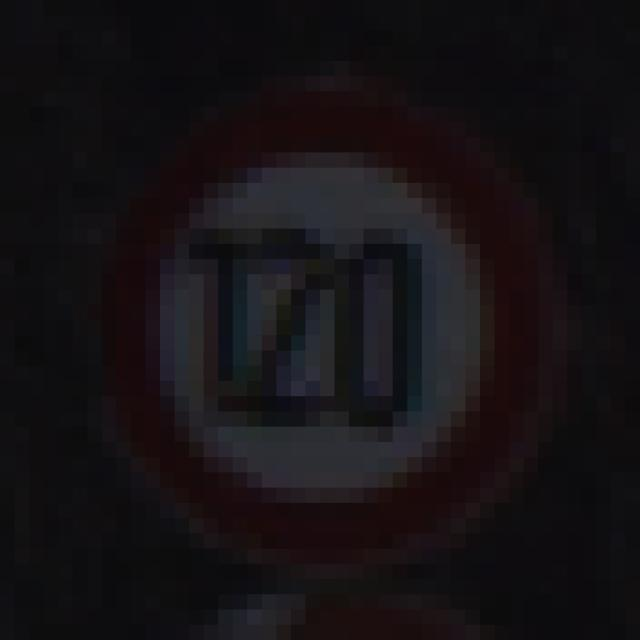Ograniczenie predkosci do 120: (89, 87, 560, 577)
